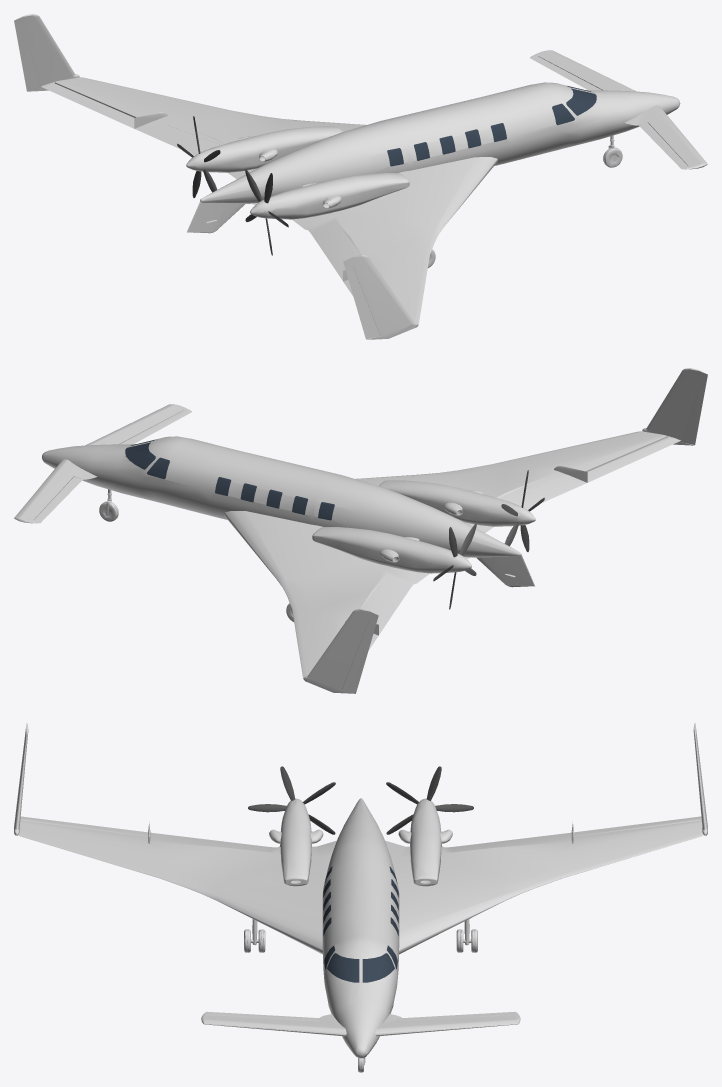
File: star.glb
The picture shows the model from 3 angles, top to bottom: view 1: azimuth 30°, elevation 25°; view 2: azimuth 150°, elevation 25°; view 3: azimuth 270°, elevation 25°; orthographic projection.
Visible parts, largest first — view 1: body, glass, spin (×2); view 2: body, glass, spin (×2); view 3: body, glass, spin (×2).
Part boxes in pixels (bbox=[...]): body: bbox=[14, 14, 707, 339]; glass: bbox=[387, 86, 596, 166]; spin (×2): bbox=[177, 116, 288, 255]; body: bbox=[14, 368, 707, 693]; glass: bbox=[125, 439, 334, 520]; spin (×2): bbox=[433, 470, 544, 609]; body: bbox=[14, 723, 707, 1072]; glass: bbox=[323, 866, 398, 982]; spin (×2): bbox=[248, 766, 473, 846].
Size of the model in its own units: 1.86 by 0.4791 by 2.2.
